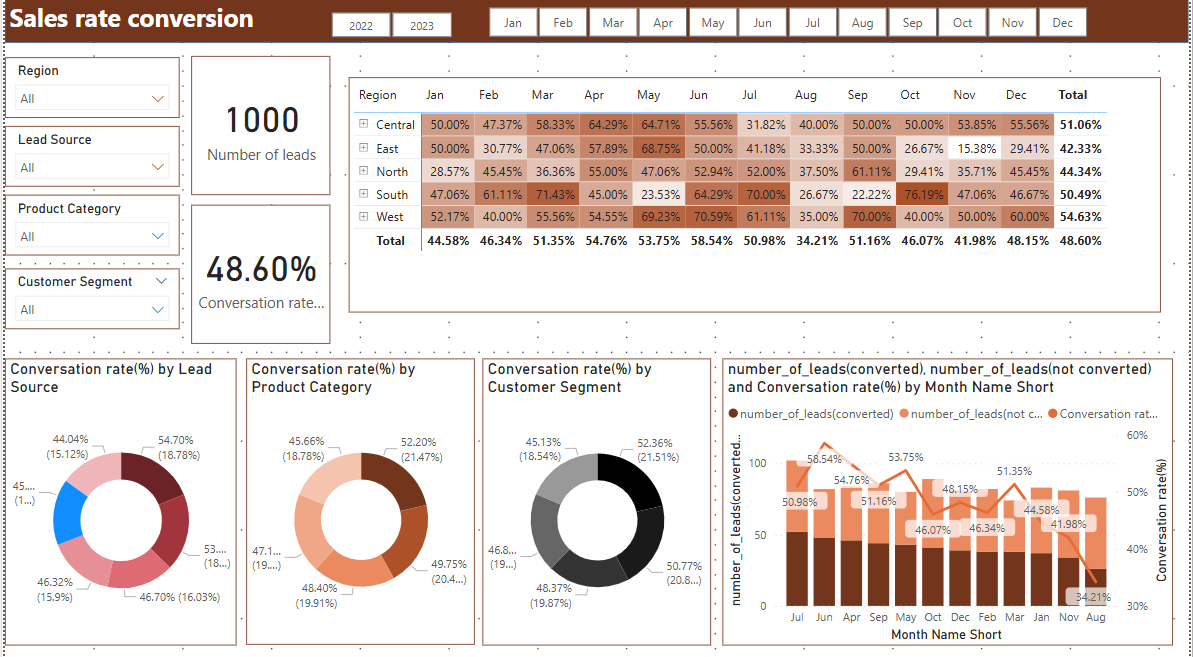

The page's visual inventory and layout, read from the dashboard file:
{"tool":"powerbi","page":{"name":"Page 1","canvas":[1280,720],"ordinal":0},"visuals":[{"type":"shape","box":[0,0,1280.3,50.8],"z":0},{"type":"textbox","box":[0,0,1280.3,49.4],"z":1000},{"type":"slicer","fields":{"Values":["Data.Region"]},"box":[0,65.8,188.8,65.8],"z":2000},{"type":"slicer","fields":{"Values":["Data.Customer Segment"]},"box":[0,294.1,188.8,65.8],"z":3000},{"type":"slicer","fields":{"Values":["Data.Product Category"]},"box":[0,215.1,188.8,65.8],"z":4000},{"type":"slicer","fields":{"Values":["Data.Lead Source"]},"box":[0,140.5,188.8,65.8],"z":5000},{"type":"card","fields":{"Values":["Data.number_of_leads"]},"box":[201.9,64.4,150.7,150.7],"z":6000},{"type":"card","fields":{"Values":["Data.Conversation rate(%)"]},"box":[201.9,225.3,150.7,150.7],"z":7000},{"type":"slicer","fields":{"Values":["Date.Year"]},"box":[327.8,10.2,180,41],"z":8000},{"type":"slicer","fields":{"Values":["Date.Month Name Short"]},"box":[497.5,5.9,696.5,45.4],"z":9000},{"type":"donutChart","fields":{"Category":["Data.Product Category"],"Y":["Data.Conversation rate(%)"]},"box":[260.9,392.7,247.4,309.3],"z":10000},{"type":"donutChart","fields":{"Y":["Data.Conversation rate(%)"],"Category":["Data.Lead Source"]},"box":[0,392.7,250.1,310.7],"z":11000},{"type":"donutChart","fields":{"Y":["Data.Conversation rate(%)"],"Category":["Data.Customer Segment"]},"box":[516.4,392.7,247.4,310.7],"z":12000},{"type":"lineStackedColumnComboChart","fields":{"Category":["Date.Month Name Short"],"Y":["Data.number_of_leads(converted)","Data.number_of_leads(not converted)"],"Y2":["Data.Conversation rate(%)"]},"box":[776,392.7,486.8,310.7],"z":13000},{"type":"pivotTable","fields":{"Rows":["Data.Region","Data.Customer Segment"],"Columns":["Date.Month Name Short"],"Values":["Data.Conversation rate(%)"]},"box":[371.2,87.4,878.2,254.2],"z":14000}]}

Visuals, with their boxes in screenshot pixels (x1, y1, x2, y2), scaled from the page's 1280x720 canvas onto the 1193x657 screenshot:
shape: pyautogui.locateOnScreen(0, 0, 1192, 46)
textbox: pyautogui.locateOnScreen(0, 0, 1192, 45)
slicer - Data.Region: pyautogui.locateOnScreen(0, 60, 176, 120)
slicer - Data.Customer Segment: pyautogui.locateOnScreen(0, 268, 176, 328)
slicer - Data.Product Category: pyautogui.locateOnScreen(0, 196, 176, 256)
slicer - Data.Lead Source: pyautogui.locateOnScreen(0, 128, 176, 188)
card - Data.number_of_leads: pyautogui.locateOnScreen(188, 59, 329, 196)
card - Data.Conversation rate(%): pyautogui.locateOnScreen(188, 206, 329, 343)
slicer - Date.Year: pyautogui.locateOnScreen(306, 9, 473, 47)
slicer - Date.Month Name Short: pyautogui.locateOnScreen(464, 5, 1113, 47)
donutChart - Data.Product Category x Data.Conversation rate(%): pyautogui.locateOnScreen(243, 358, 474, 641)
donutChart - Data.Conversation rate(%) x Data.Lead Source: pyautogui.locateOnScreen(0, 358, 233, 642)
donutChart - Data.Conversation rate(%) x Data.Customer Segment: pyautogui.locateOnScreen(481, 358, 712, 642)
lineStackedColumnComboChart - Date.Month Name Short x Data.number_of_leads(converted): pyautogui.locateOnScreen(723, 358, 1177, 642)
pivotTable - Data.Region x Data.Customer Segment: pyautogui.locateOnScreen(346, 80, 1164, 312)
